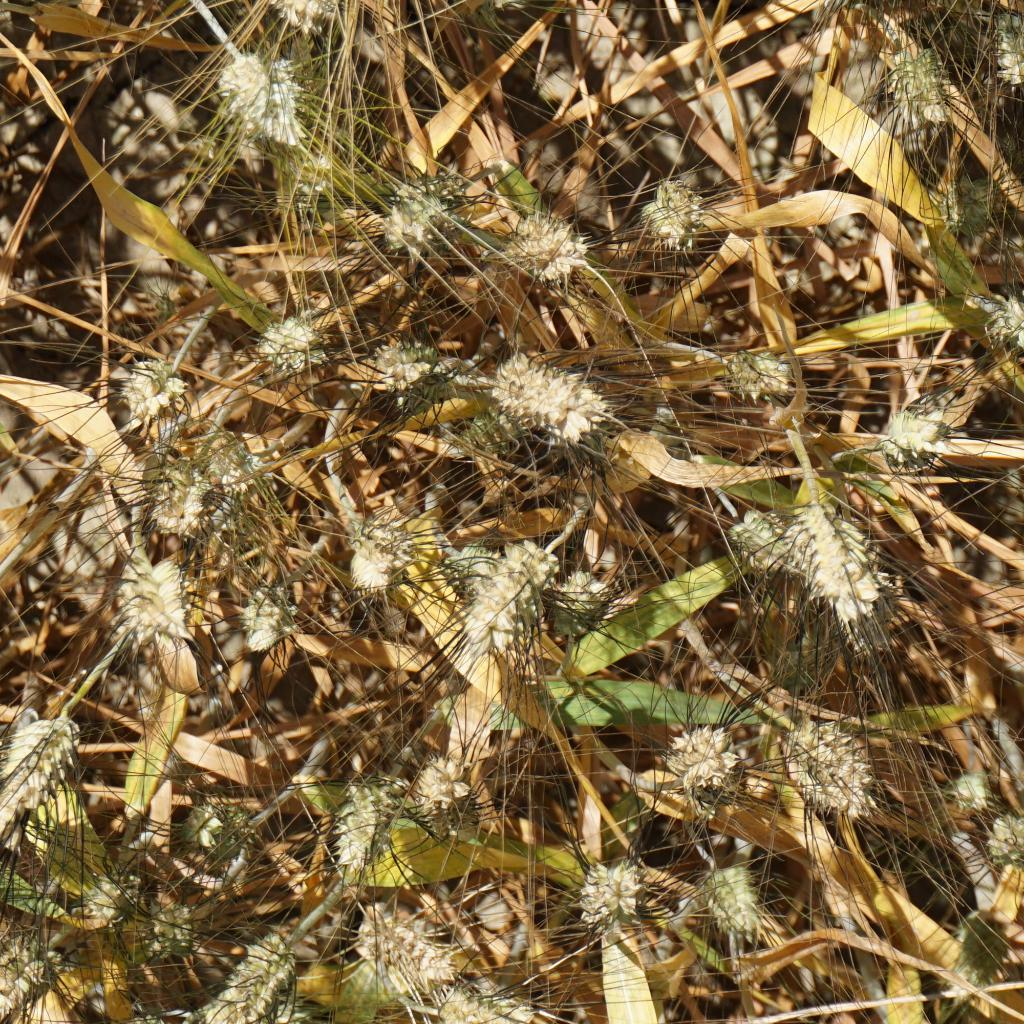0-0: (797, 498, 902, 662), (0, 705, 91, 854), (763, 720, 879, 821), (194, 922, 307, 1024), (110, 554, 214, 651), (726, 507, 823, 593), (496, 354, 604, 429), (664, 707, 751, 799), (358, 898, 449, 985), (211, 54, 303, 139), (467, 543, 546, 638), (510, 214, 601, 295), (944, 907, 1019, 1005), (386, 172, 474, 248), (346, 499, 417, 593), (415, 759, 487, 847), (143, 450, 216, 536), (239, 578, 314, 658), (585, 855, 648, 947), (887, 47, 952, 135), (110, 337, 188, 410), (338, 771, 397, 867), (638, 173, 713, 247), (698, 870, 769, 946), (878, 402, 956, 471), (180, 793, 258, 855), (556, 570, 620, 638), (734, 336, 793, 407), (197, 431, 269, 487), (941, 175, 1007, 236), (0, 934, 51, 1011), (437, 404, 513, 453), (445, 979, 522, 1024), (136, 904, 197, 956), (438, 0, 537, 31), (261, 0, 339, 39), (141, 276, 197, 330), (988, 12, 1024, 96), (366, 340, 428, 388), (265, 321, 327, 364), (975, 290, 1024, 343), (937, 769, 993, 815), (90, 866, 137, 916), (451, 534, 495, 587), (275, 151, 330, 193), (982, 824, 1024, 863)
